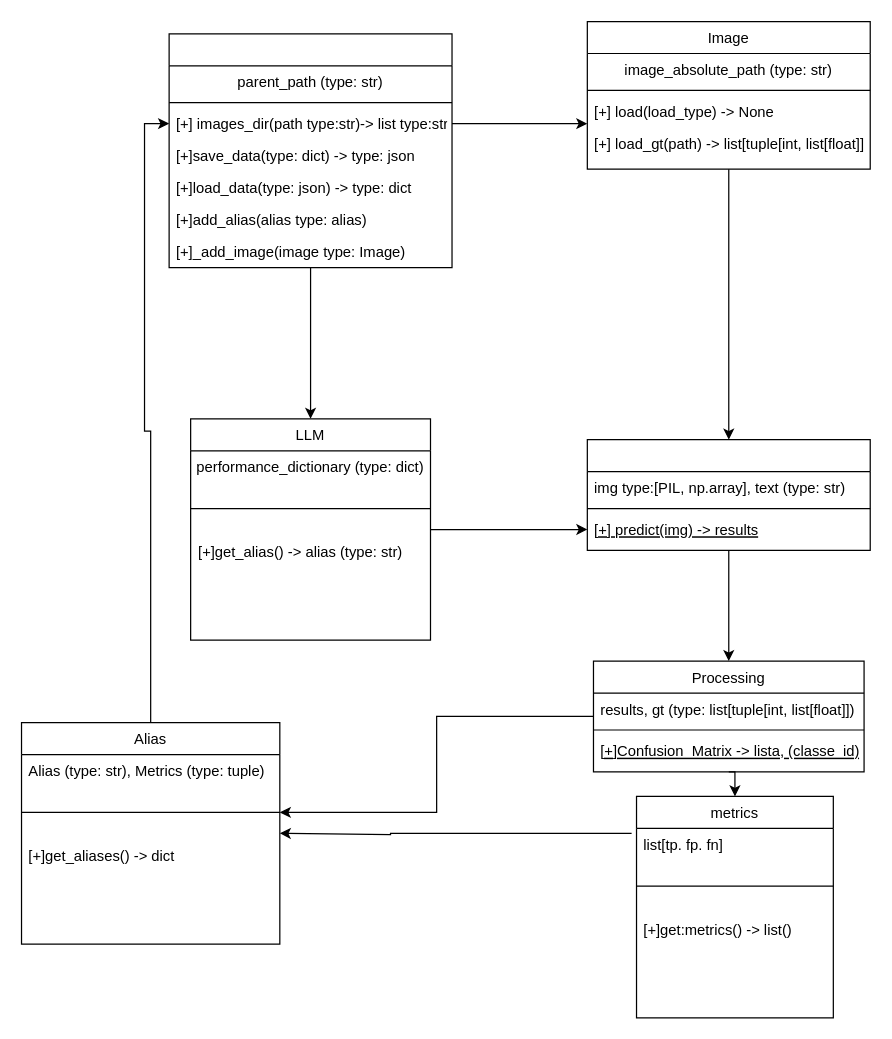
Some shapes in this 892 by 1039 pixel diagram are drawn without their labels. The box of each missing label's shape, as (x1, y1, x2, y2) in pixels:
Dataset: (168, 33, 452, 268)
modello_vis: (586, 438, 870, 550)
